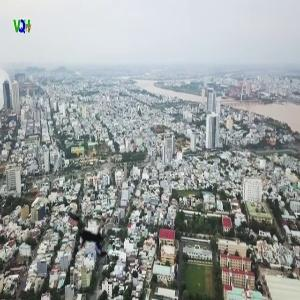drone: (37, 188, 140, 291)
